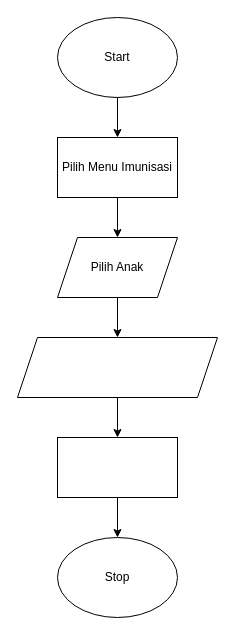
Image size: 235x635. Some labels were removed from this diagram. Each missing label, with the box of its shape:
Input Data Imunisasi (Tanggal, Jenis Vaksin): (16, 336, 218, 398)
Simpan ke Database: (56, 436, 178, 498)
